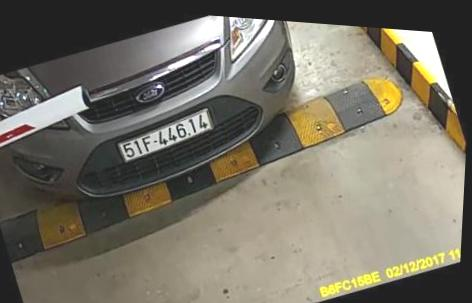License_Plate: (116, 105, 218, 175)
